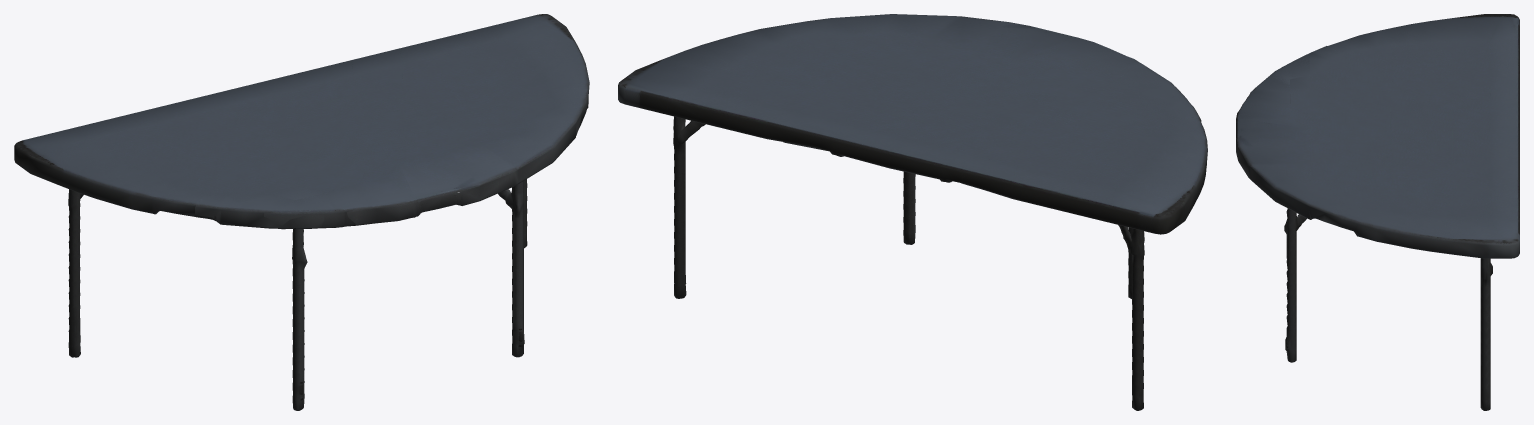
The model's file is PLASTIC_HALF_ROUND_TABLE_0403043625_texture.glb.
3 renders of one model, left to right at view 1: azimuth 30°, elevation 25°; view 2: azimuth 150°, elevation 25°; view 3: azimuth 270°, elevation 25°, orthographic. The views are drawn at different scales.
Visible parts, largest first — view 1: Mesh_0.001; view 2: Mesh_0.001; view 3: Mesh_0.001.
Part boxes in pixels (x1=…): Mesh_0.001: x1=14, y1=14, x2=589, y2=410; Mesh_0.001: x1=618, y1=14, x2=1207, y2=410; Mesh_0.001: x1=1236, y1=14, x2=1519, y2=410.
Bounding box in the file's own units: 2.03 × 0.762 × 1.05.
Materials: 1 (1 with a texture image).
